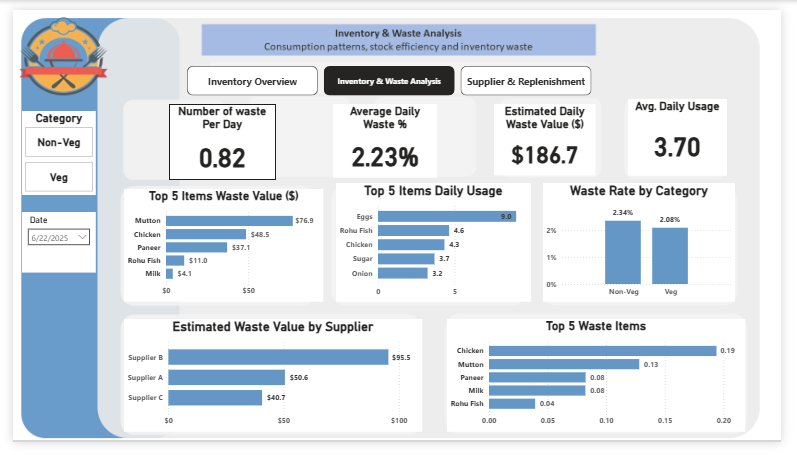

What the dashboard file says about the page in this screenshot:
{"tool":"powerbi","page":{"name":"Inventory & Waste Analysis","canvas":[1280,720],"ordinal":1},"visuals":[{"type":"card","title":"Total Usage","fields":{"Values":["_Measure.Total Daily Usage"]},"box":[184.8,152.9,178.1,126],"z":0},{"type":"card","title":"Avg. Daily Usage","fields":{"Values":["_Measure.Average Daily Usage"]},"box":[393.1,151.2,164.6,127.7],"z":1000},{"type":"card","title":"Average Waste %","fields":{"Values":["_Measure.Average Waste %"]},"box":[601,152.8,169,111.7],"z":2000},{"type":"card","title":"Items at Replenishment Risk","fields":{"Values":["_Measure.Items With Stock Coverage Risk"]},"box":[1024.2,149.9,164.6,117.6],"z":3000},{"type":"clusteredColumnChart","title":"Waste Rate by Category","fields":{"Y":["_Measure.Average Waste %"],"Category":["Fact_Inventory.Category"]},"box":[883.1,279.2,320.3,207.2],"z":4000},{"type":"clusteredBarChart","title":"Top 5 Items by Daily Usage","fields":{"Category":["Fact_Inventory.Item_Name"],"Y":["_Measure.Average Daily Usage"]},"box":[536.3,288,324.7,198.4],"z":5000},{"type":"scatterChart","title":"Stock Cover vs Lead Time","fields":{"Y":["_Measure.Average Days of Stock Cover"],"Size":["_Measure.Current Inventory Value"],"Category":["Fact_Inventory.Item_Name"],"X":["_Measure.Average Daily Usage"],"Series":["Fact_Inventory.Stock Status"]},"box":[185.1,508.4,496.7,199.8],"z":6000},{"type":"card","title":"Estimated Waste Value","fields":{"Values":["_Measure.Waste Value"]},"box":[812.6,148.4,163.1,119],"z":7000},{"type":"pageNavigator","box":[289.5,94,675.9,50],"z":8000},{"type":"clusteredBarChart","title":"Top 5 Items by Waste Value","fields":{"Category":["Fact_Inventory.Item_Name"],"Y":["_Measure.Total Waste Value"]},"box":[188.3,298.3,325,188.3],"z":9000},{"type":"slicer","title":"Date Range","fields":{"Values":["Dim_Date.Date"]},"box":[16.2,408.5,122,161.6],"z":10000},{"type":"lineChart","title":"Daily Waste Value &  7-Day Moving Avg","fields":{"Y":["_Measure.Total Waste Value"],"Category":["Dim_Date.Date"],"Y2":["_Measure.7-Day Moving Avg01"]},"box":[712.2,509,503.9,199.9],"z":11000},{"type":"advancedSlicerVisual","title":"Category","fields":{"Values":["Fact_Inventory.Category"]},"box":[14.7,169,123.4,139.6],"z":12000}]}

Visuals, with their boxes in screenshot pixels (x1, y1, x2, y2), scaled from the page's 1280x720 canvas onto the 797x455 screenshot:
"Total Usage" card: <bbox>115, 97, 226, 176</bbox>
"Avg. Daily Usage" card: <bbox>245, 96, 347, 176</bbox>
"Average Waste %" card: <bbox>374, 97, 479, 167</bbox>
"Items at Replenishment Risk" card: <bbox>638, 95, 740, 169</bbox>
"Waste Rate by Category" clusteredColumnChart: <bbox>550, 176, 749, 307</bbox>
"Top 5 Items by Daily Usage" clusteredBarChart: <bbox>334, 182, 536, 307</bbox>
"Stock Cover vs Lead Time" scatterChart: <bbox>115, 321, 425, 448</bbox>
"Estimated Waste Value" card: <bbox>506, 94, 608, 169</bbox>
pageNavigator: <bbox>180, 59, 601, 91</bbox>
"Top 5 Items by Waste Value" clusteredBarChart: <bbox>117, 189, 320, 308</bbox>
"Date Range" slicer: <bbox>10, 258, 86, 360</bbox>
"Daily Waste Value &  7-Day Moving Avg" lineChart: <bbox>443, 322, 757, 448</bbox>
"Category" advancedSlicerVisual: <bbox>9, 107, 86, 195</bbox>
